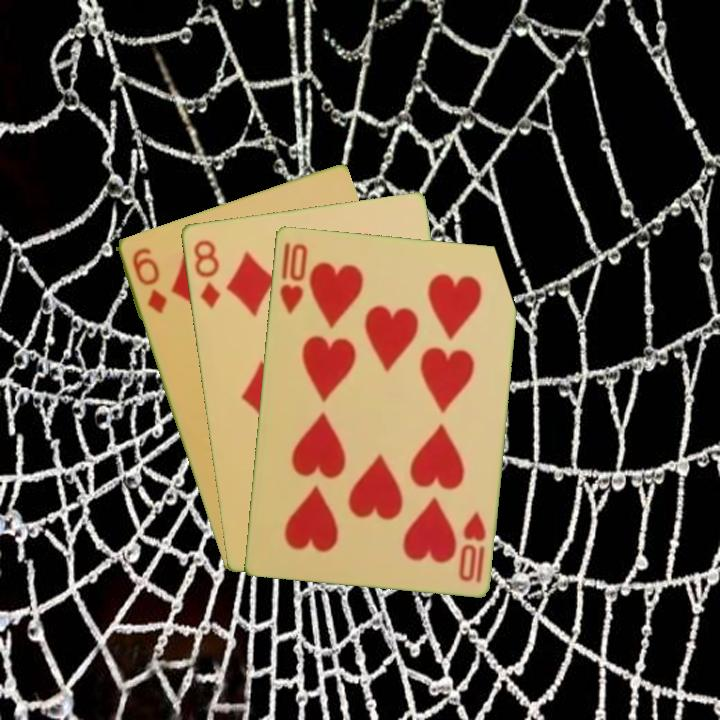10h: (276, 238, 310, 317), (455, 508, 489, 586)
6d: (128, 244, 169, 316)
8d: (189, 236, 223, 312)
